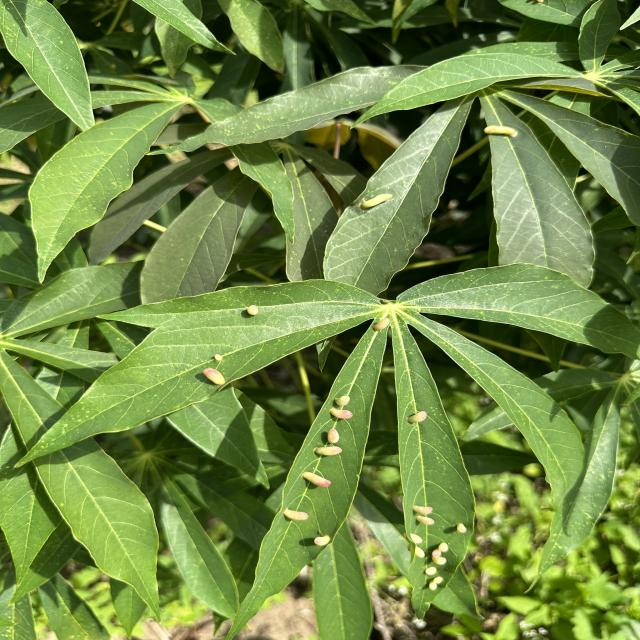Mosca: (198, 347, 238, 399), (423, 534, 455, 598), (476, 118, 541, 149), (357, 309, 404, 344), (308, 422, 344, 461), (329, 386, 363, 422), (238, 294, 276, 326), (276, 497, 309, 533), (400, 526, 430, 565), (342, 187, 400, 206), (303, 465, 335, 494), (401, 407, 437, 429), (300, 529, 332, 553), (409, 504, 436, 527), (450, 514, 473, 541)
